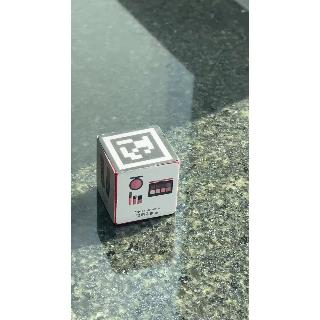Expired_Cosmetic: (115, 172, 183, 224)
